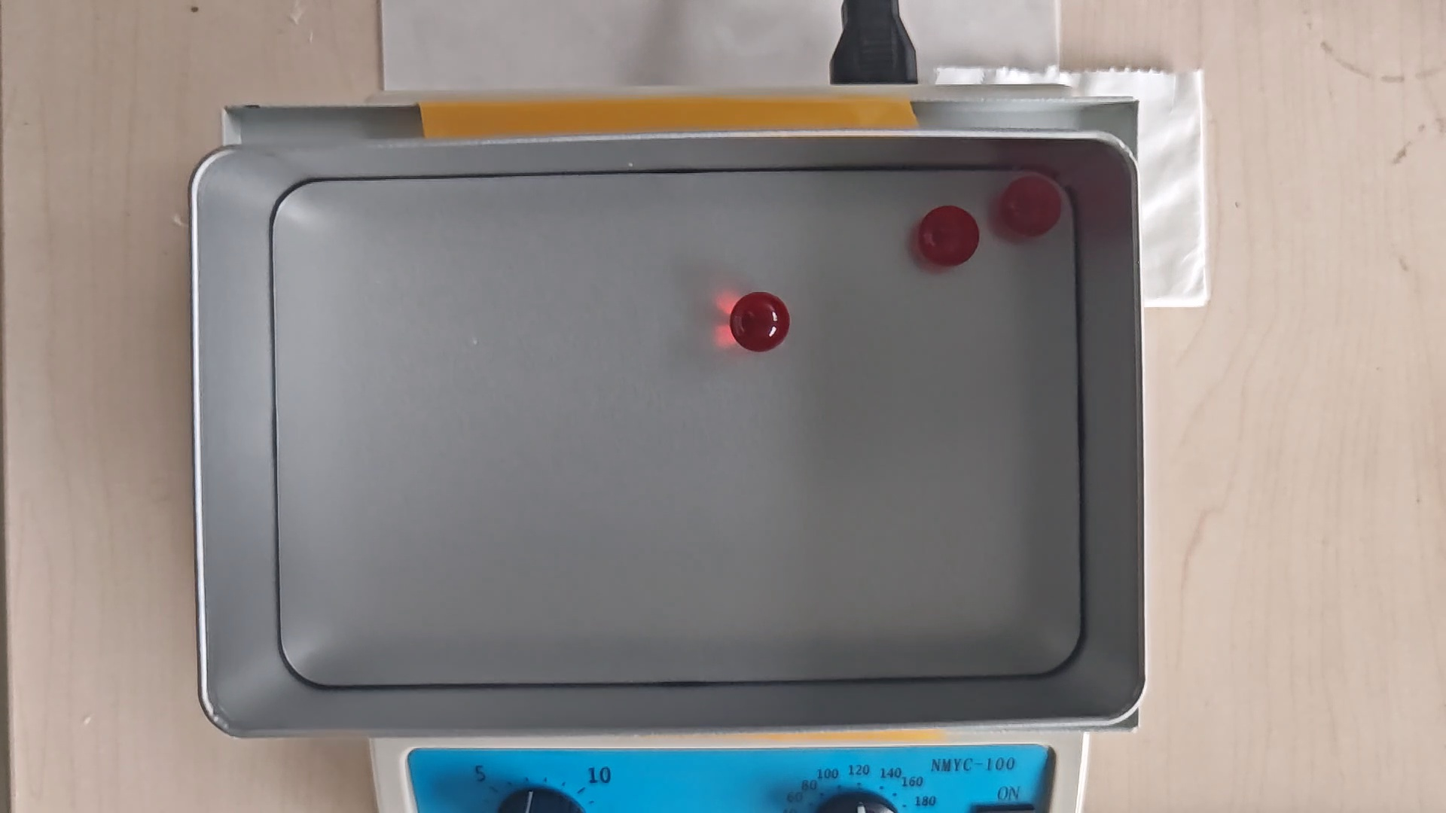ball: (731, 291, 792, 352), (919, 205, 979, 267), (1002, 178, 1061, 237)
container: (275, 169, 1080, 684)
